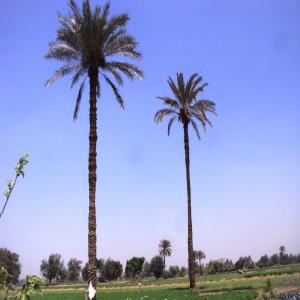palm tree: (42, 0, 145, 299), (154, 72, 217, 290), (158, 239, 172, 278)
